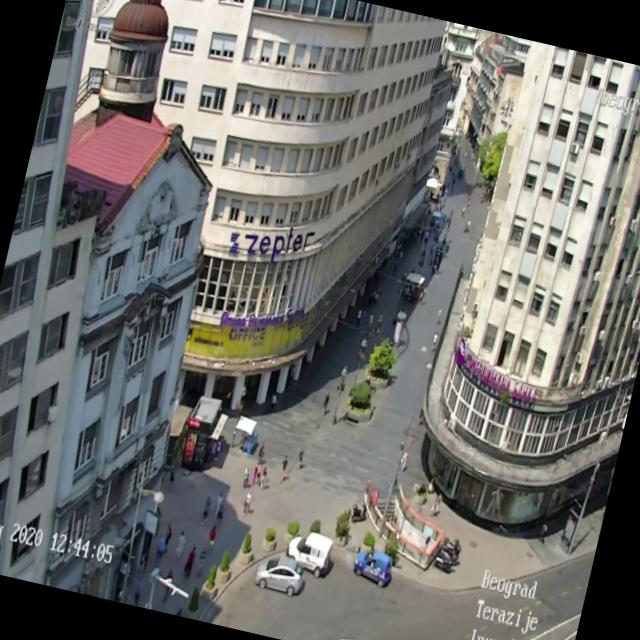car: (252, 550, 307, 598), (284, 530, 336, 576), (349, 544, 396, 588)
